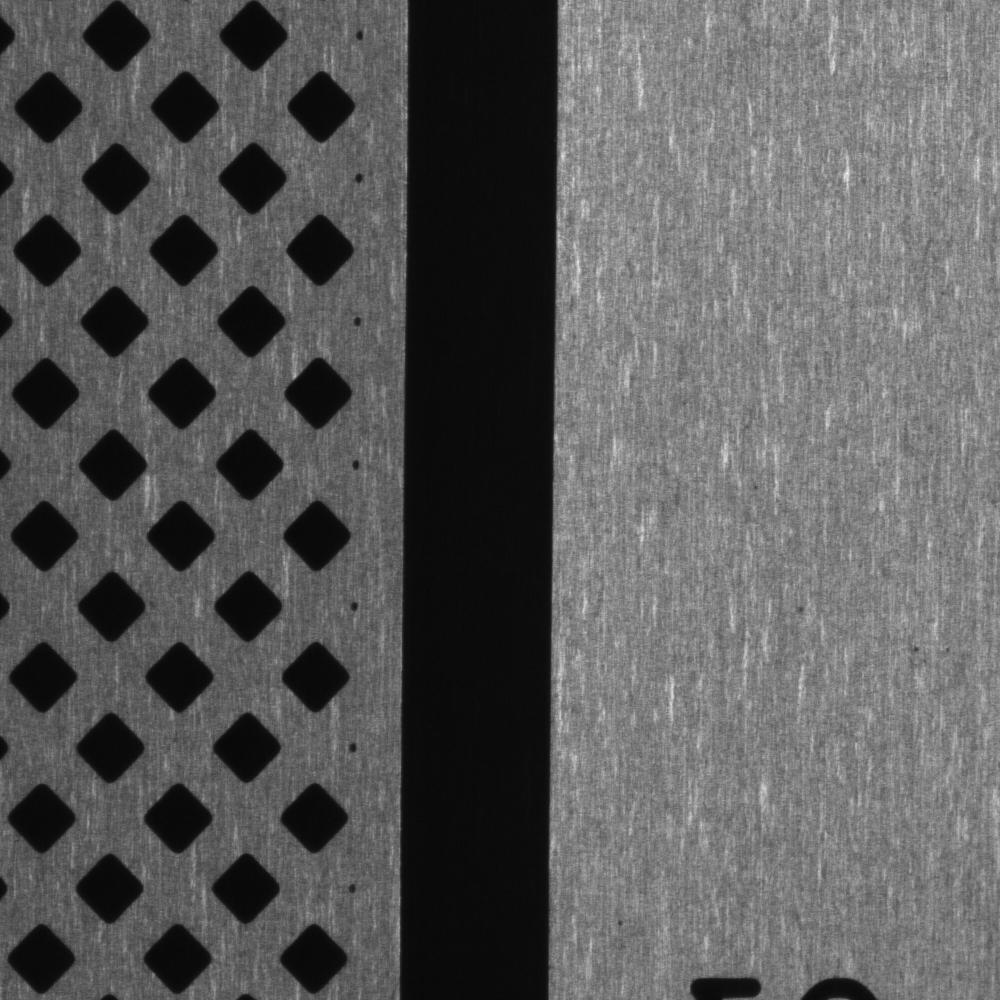Pinhole: (786, 589, 826, 632), (610, 906, 637, 942), (905, 626, 928, 665), (744, 477, 770, 499)
